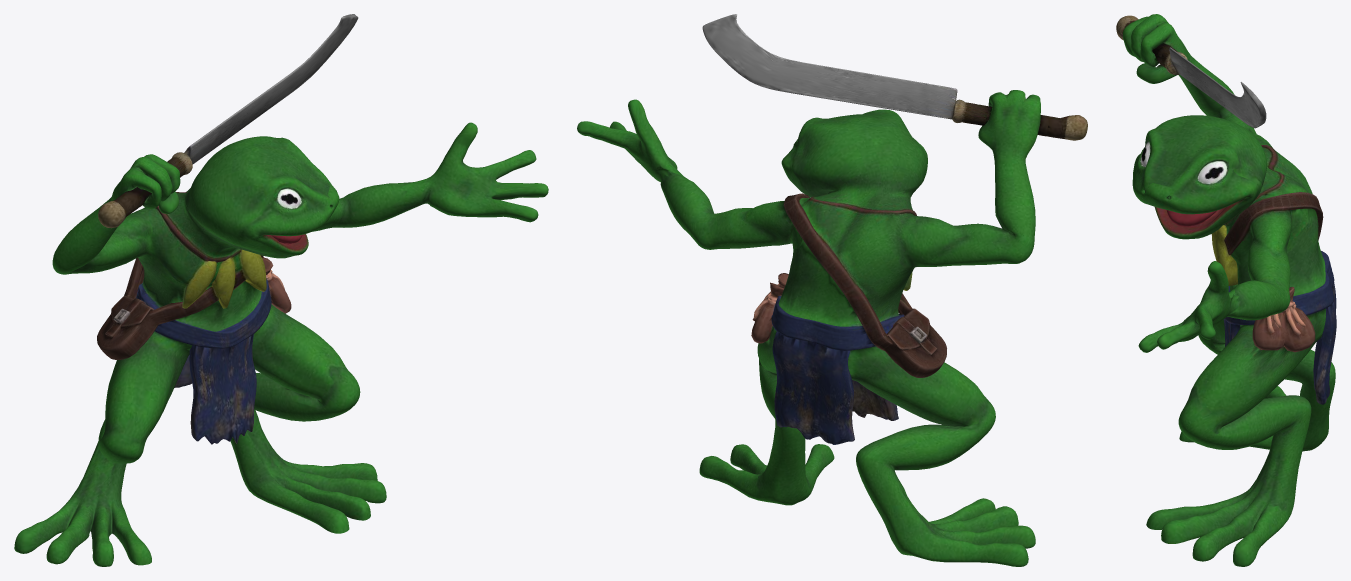
Rendered from MZ4250 - Angulotl Blade(Kermit).glb.
The picture shows the model from 3 angles, left to right: view 1: azimuth 30°, elevation 25°; view 2: azimuth 150°, elevation 25°; view 3: azimuth 270°, elevation 25°; orthographic projection.
Parts seen in each view (by area): view 1: Angulotl Blade.001; view 2: Angulotl Blade.001; view 3: Angulotl Blade.001.
Boxes of the visible parts, left/top/right/bottom form: Angulotl Blade.001: left=14, top=14, right=548, bottom=566; Angulotl Blade.001: left=577, top=14, right=1087, bottom=566; Angulotl Blade.001: left=1116, top=14, right=1336, bottom=566.
Size of the model in its own units: 183 by 170 by 72.19.
1 material, 1 textured.
